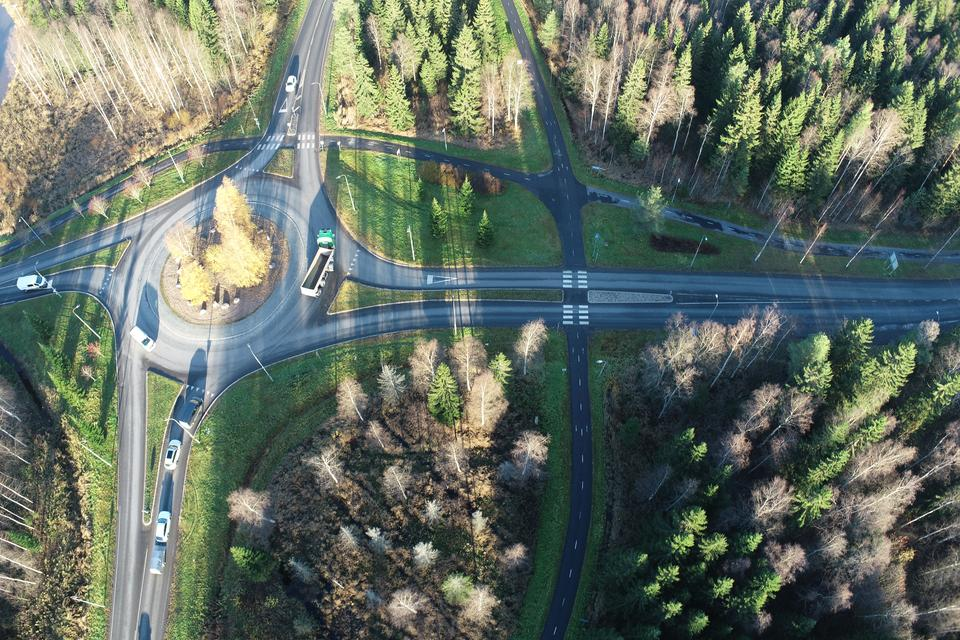intersection: (543, 248, 616, 368), (228, 121, 346, 161)
roundabout: (82, 169, 408, 414)
